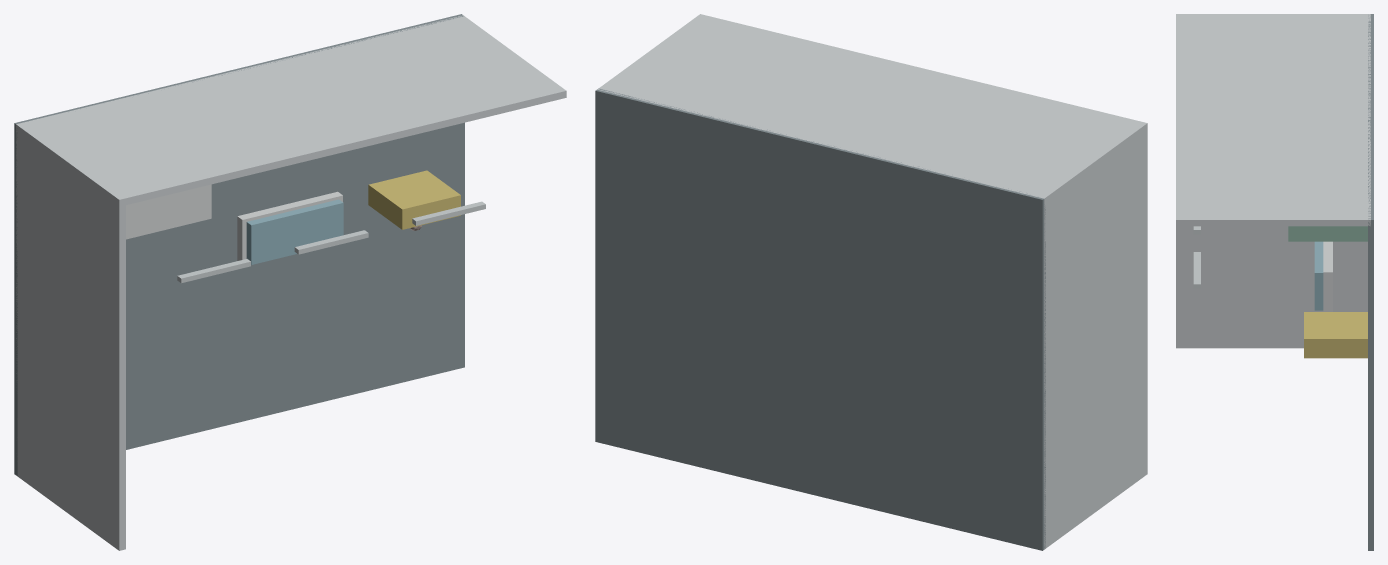
File: pediatrics-room-medium.glb
3 views of the same model, side by side, from view 1: azimuth 30°, elevation 25°; view 2: azimuth 150°, elevation 25°; view 3: azimuth 270°, elevation 25° (orthographic). The views are drawn at different scales.
Visible parts, largest first — view 1: floor, wall_back, wall_left, pediatric_mattress, play_shelf, exam_table, pediatric_bed, ceiling_panel_2, ceiling_panel_3, ceiling_panel_1; view 2: floor, wall_back, wall_left; view 3: wall_back, wall_left, floor, play_shelf, supplies_cabinet, pediatric_bed, pediatric_mattress, ceiling_panel_3.
Boxes of the visible parts, box(x1,y1,x2,y2) form: floor: box(14, 14, 464, 476); wall_back: box(16, 15, 566, 206); wall_left: box(16, 122, 125, 550); pediatric_mattress: box(246, 199, 343, 264); play_shelf: box(368, 170, 460, 229); exam_table: box(126, 184, 211, 239); pediatric_bed: box(237, 191, 342, 260); ceiling_panel_2: box(294, 230, 368, 254); ceiling_panel_3: box(412, 201, 485, 225); ceiling_panel_1: box(177, 259, 250, 283); floor: box(595, 88, 1045, 550); wall_back: box(598, 14, 1147, 204); wall_left: box(1038, 121, 1147, 549); wall_back: box(1176, 14, 1370, 226); wall_left: box(1176, 14, 1370, 348); floor: box(1368, 14, 1373, 550); play_shelf: box(1304, 312, 1367, 358); supplies_cabinet: box(1288, 226, 1367, 241); pediatric_bed: box(1323, 241, 1332, 311); pediatric_mattress: box(1314, 241, 1323, 310); ceiling_panel_3: box(1193, 252, 1200, 288).
Bounding box in the file's own units: 8 × 6 × 3.25.
